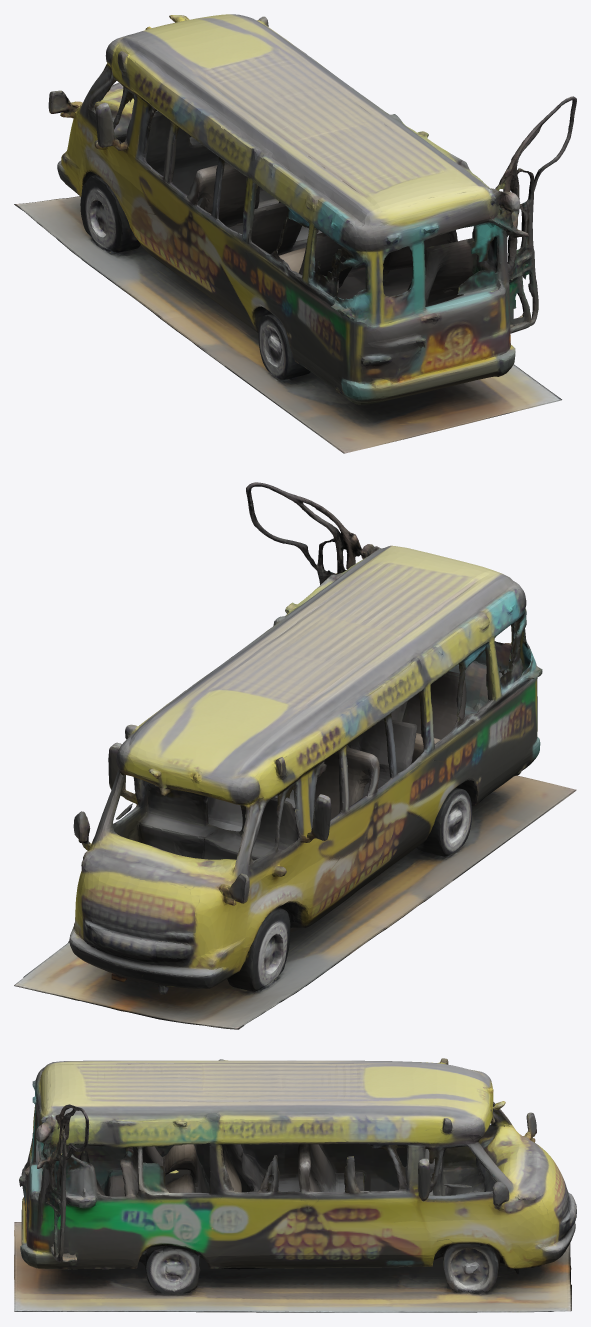
Rendered from matatu.glb.
The picture shows the model from 3 angles, top to bottom: view 1: azimuth 30°, elevation 25°; view 2: azimuth 150°, elevation 25°; view 3: azimuth 270°, elevation 25°; orthographic projection. The views are drawn at different scales.
Visible parts, largest first — view 1: world; view 2: world; view 3: world.
Boxes of the visible parts, x1,y1,x2,y2 form: world: [14, 14, 576, 453]; world: [14, 482, 576, 1029]; world: [14, 1058, 576, 1312].
Size of the model in its own units: 0.4889 by 0.4358 by 1.
1 material, 1 textured.
